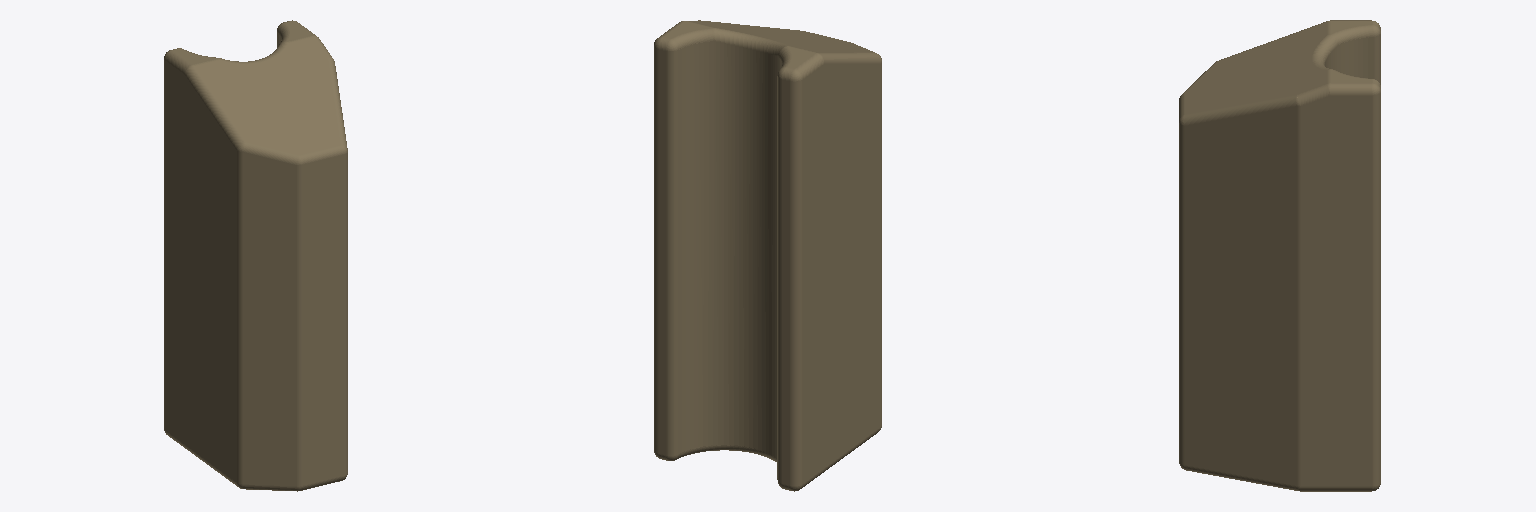
The robot description file, URDF, robot "wierd":
<?xml version="1.0"?>
<robot name="wierd">
  <link name="base_link">
    <visual>
      <origin xyz="0 0 0" rpy="0 0 0" />
      <geometry>
        <mesh filename="wierd.obj"/>      
      </geometry>
      <material name="tan">
        <color rgba="0.55 0.5 0.4 1"/>
      </material>
    </visual>
    <collision>
      <origin xyz="0 0 0" rpy="0 0 0" />
      <geometry>
        <mesh filename="wierd.obj"/>
      </geometry>
    </collision>
  </link>
</robot>

--- Render facts (derived) ---
3 views of the same robot in one strip: view 1: azimuth 30°, elevation 25°; view 2: azimuth 150°, elevation 25°; view 3: azimuth 270°, elevation 25° (orthographic).
Robot: wierd — 1 links, 0 joints (none); root link base_link; default pose: every joint at zero.
Visible links, largest first — view 1: base_link; view 2: base_link; view 3: base_link.
Link boxes in pixels (x1,y1,x2,y2): base_link: (164, 20, 347, 491); base_link: (654, 20, 881, 491); base_link: (1179, 20, 1380, 491).
Size in the robot's own frame: 13.97 by 17.12 by 38.1 metres.
1 mesh visuals loaded from 1 distinct referenced files (1 OBJ).
